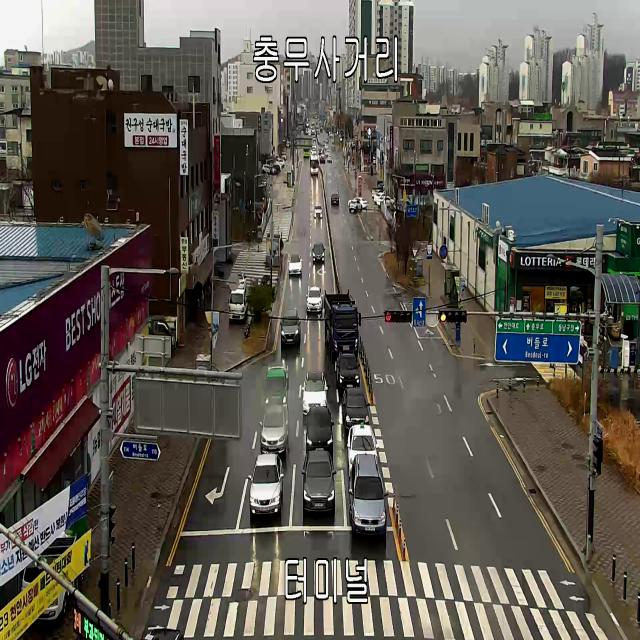Bus: (310, 155, 318, 175), (304, 148, 310, 157), (306, 123, 310, 130)
Car: (349, 454, 389, 536), (248, 454, 284, 516), (301, 450, 337, 512), (347, 423, 379, 478), (306, 405, 334, 459), (260, 405, 288, 452), (342, 388, 370, 431), (302, 371, 328, 416), (337, 353, 360, 389), (280, 308, 301, 345), (306, 286, 323, 313), (230, 272, 247, 293), (288, 254, 303, 274), (312, 242, 325, 262), (348, 196, 369, 208), (377, 195, 395, 207), (349, 200, 363, 212), (262, 164, 276, 175), (374, 192, 386, 202), (314, 205, 323, 218), (372, 188, 384, 197), (331, 193, 340, 205), (276, 159, 285, 168), (320, 154, 325, 164), (325, 150, 331, 156), (282, 152, 286, 160), (311, 147, 316, 153), (373, 156, 376, 165), (318, 148, 322, 154), (328, 156, 332, 162), (312, 150, 316, 155)
Truck: (21, 536, 77, 620), (324, 290, 361, 360), (148, 317, 174, 352), (266, 366, 288, 406), (228, 289, 248, 320)
